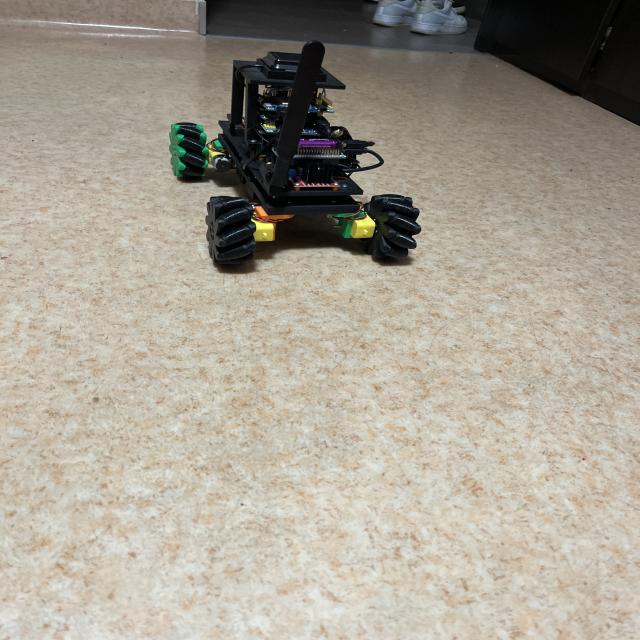robot: (170, 41, 421, 264)
